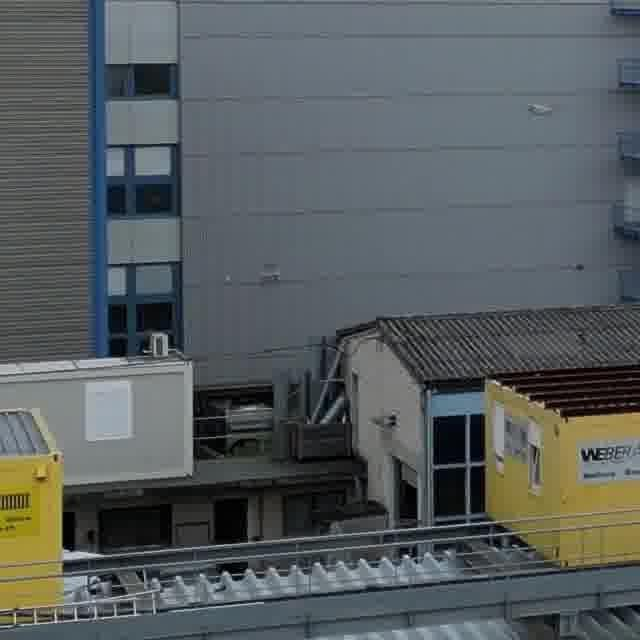Drohne: (528, 104, 552, 115)
